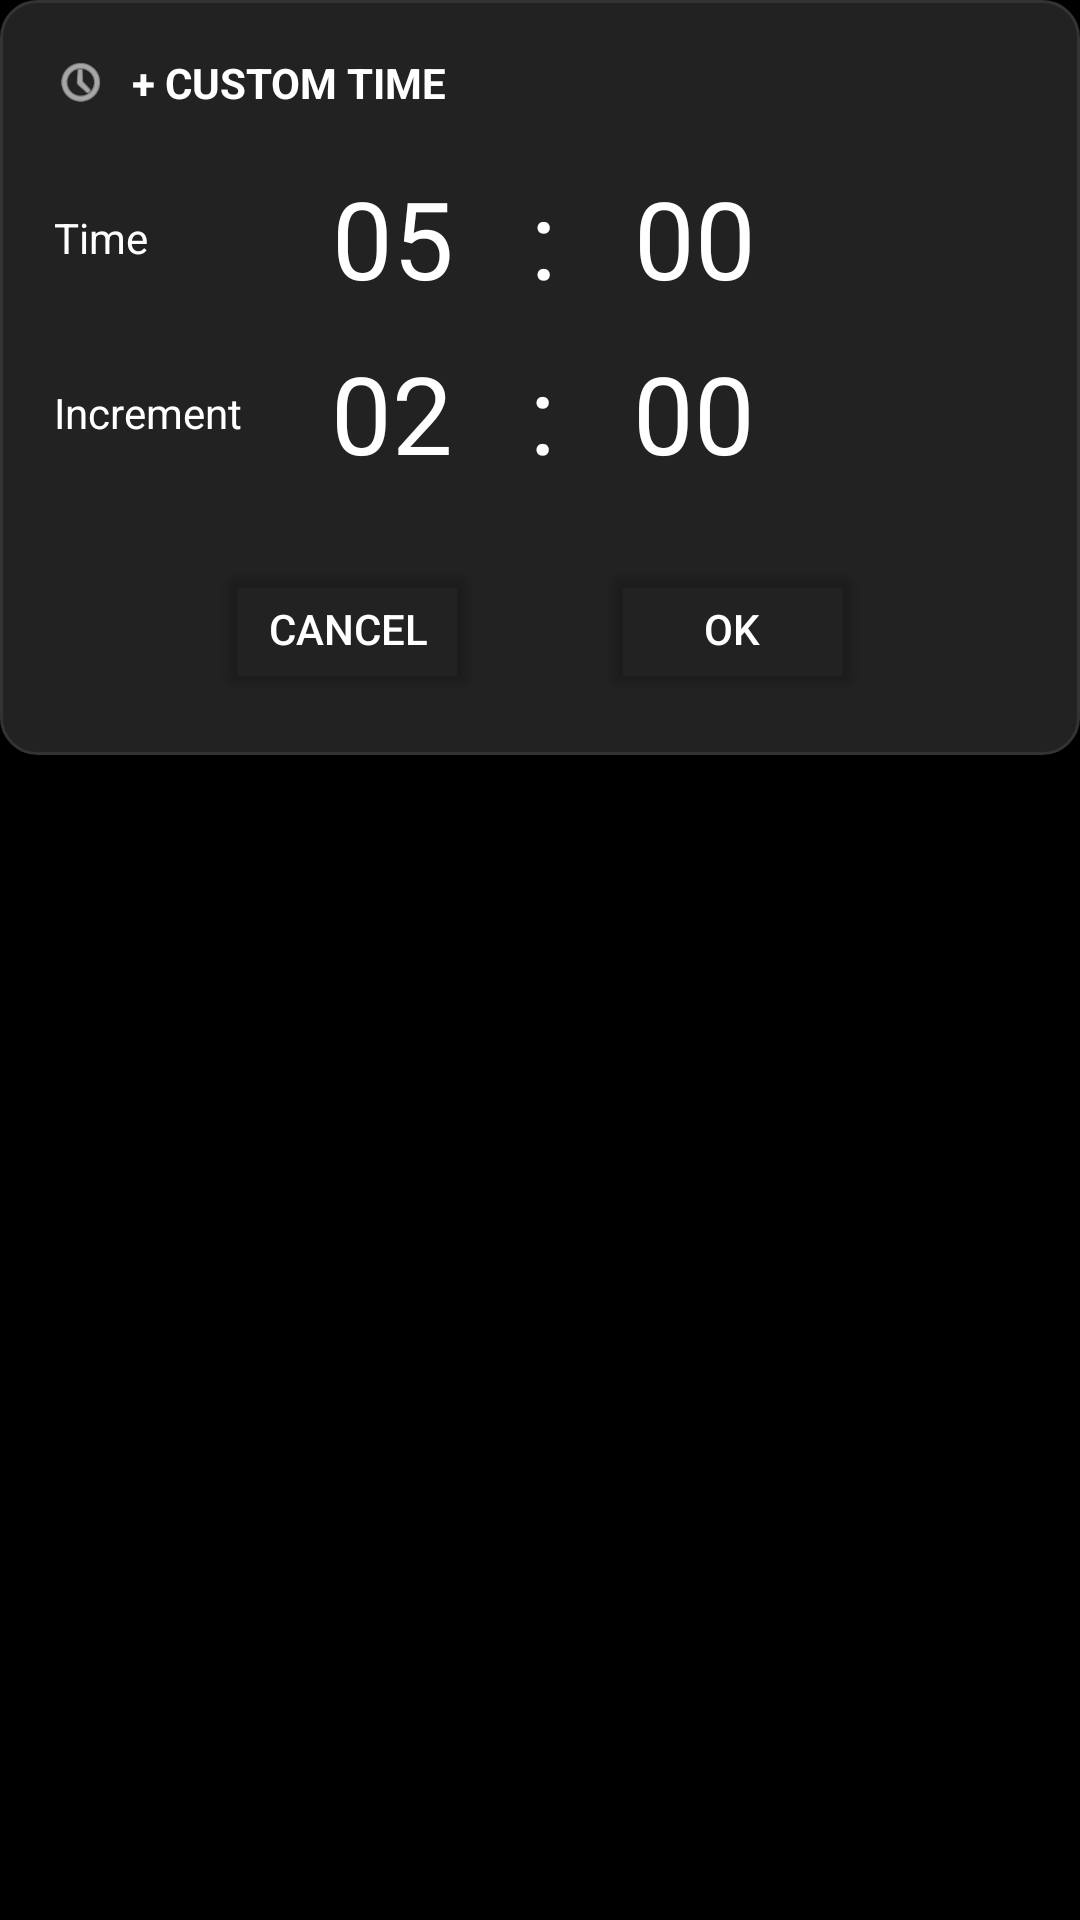

Icon bounding boxes for this 1080px x 1920px phone screenshot, format bbox(x1, y1, x2, y2):
recent history: bbox(61, 63, 100, 102)
